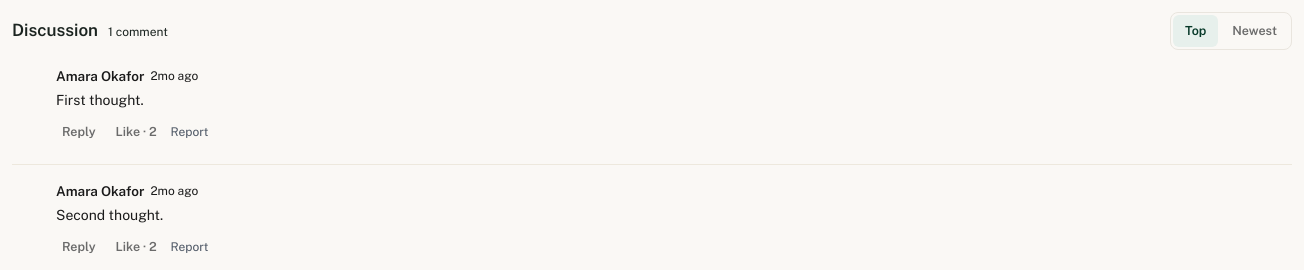
CommentThread › re-reads page one under the chosen sort
What coordinates should you click on to do the following:
click the button "Newest"
I would click on:
 (1255, 31)
Its box is x1=1220 y1=15 x2=1289 y2=47.
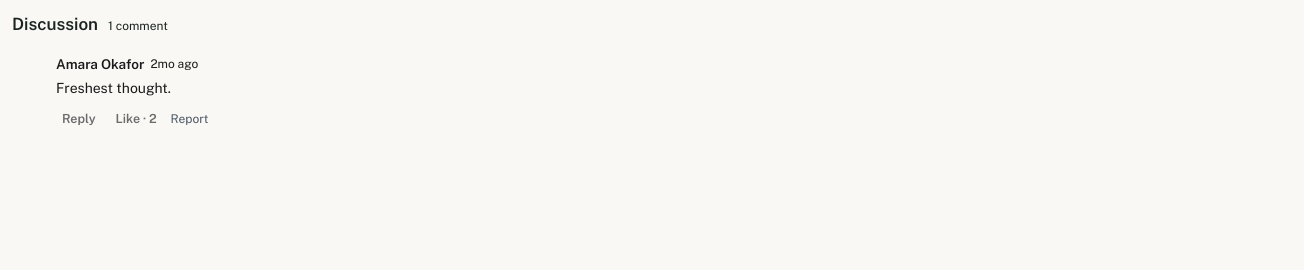
Now the text "Freshest thought." is shown, box x1=56 y1=80 x2=171 y2=96
Now the text "First thought." is gone
